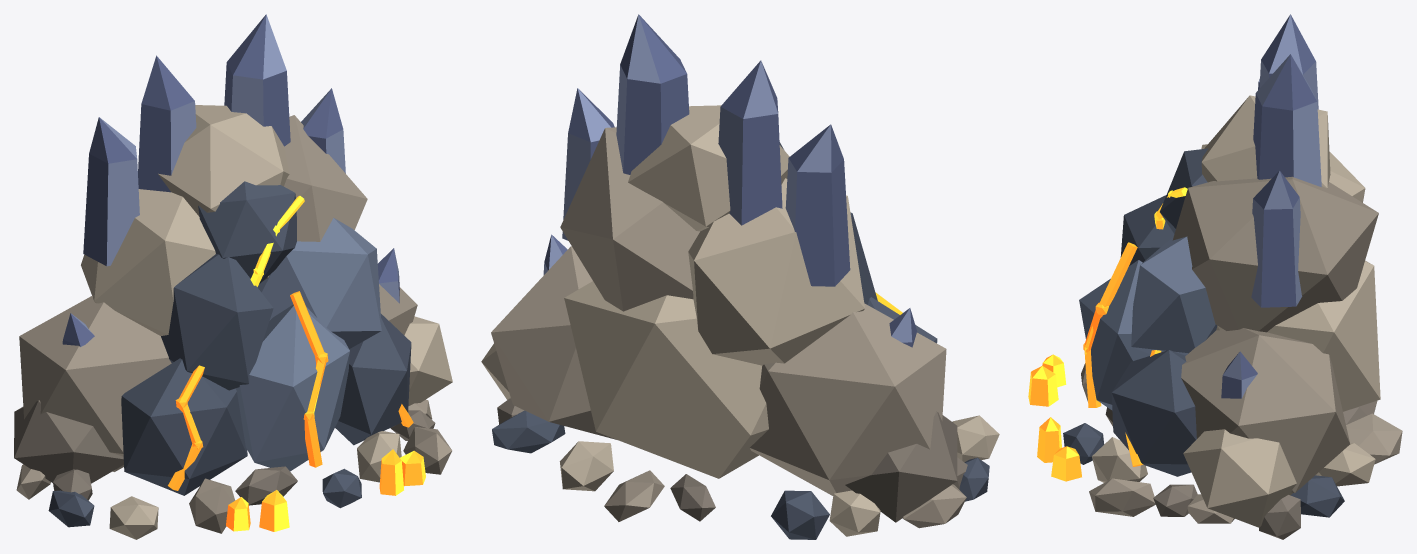
Rendered from amber_ore_pile.glb.
3 views of the same model, side by side, from view 1: azimuth 30°, elevation 25°; view 2: azimuth 150°, elevation 25°; view 3: azimuth 270°, elevation 25° (orthographic). The views are drawn at different scales.
Visible parts, largest first — view 1: Host_Boulder_1, Ore_Node_2, Ore_Node_1, Host_Boulder_4, Ore_Node_4, Ore_Node_5, Host_Boulder_8, Ore_Node_3, Ore_Node_6, Crystal_Back_Left, Host_Boulder_5, Host_Boulder_6 (+23 smaller); view 2: Host_Boulder_2, Host_Boulder_1, Host_Boulder_4, Host_Boulder_5, Host_Boulder_3, Host_Boulder_8, Crystal_Back_Left, Crystal_Tall_Left, Crystal_Tall_Right, Host_Boulder_6, Crystal_Back_Right, Rubble_4 (+11 smaller); view 3: Host_Boulder_5, Host_Boulder_3, Ore_Node_3, Host_Boulder_7, Host_Boulder_2, Ore_Node_5, Crystal_Tall_Right, Crystal_Back_Right, Ore_Node_2, Host_Boulder_8, Crystal_Tall_Left, Ore_Node_4 (+17 smaller).
Boxes of the visible parts, box(x1,y1,x2,y2) form: Host_Boulder_1: box(19, 295, 171, 471); Ore_Node_2: box(236, 304, 349, 471); Ore_Node_1: box(121, 358, 247, 495); Host_Boulder_4: box(81, 189, 215, 335); Ore_Node_4: box(161, 254, 273, 390); Ore_Node_5: box(257, 218, 381, 348); Host_Boulder_8: box(158, 105, 289, 216); Ore_Node_3: box(335, 314, 411, 445); Ore_Node_6: box(198, 181, 296, 283); Crystal_Back_Left: box(83, 117, 139, 266); Host_Boulder_5: box(262, 115, 367, 281); Host_Boulder_6: box(14, 400, 123, 483); Host_Boulder_2: box(564, 281, 768, 478); Host_Boulder_1: box(750, 303, 946, 495); Host_Boulder_4: box(688, 178, 864, 365); Host_Boulder_5: box(560, 127, 699, 311); Host_Boulder_3: box(491, 246, 616, 439); Host_Boulder_8: box(628, 105, 789, 231); Crystal_Back_Left: box(785, 124, 850, 286); Crystal_Tall_Left: box(718, 60, 782, 225); Crystal_Tall_Right: box(616, 14, 689, 174); Host_Boulder_6: box(845, 411, 957, 522); Crystal_Back_Right: box(562, 88, 614, 240); Rubble_4: box(559, 441, 613, 491); Host_Boulder_5: box(1172, 176, 1378, 332); Host_Boulder_3: box(1181, 328, 1349, 493); Ore_Node_3: box(1111, 350, 1196, 476); Host_Boulder_7: box(1183, 429, 1296, 527); Host_Boulder_2: box(1216, 260, 1380, 411); Ore_Node_5: box(1131, 236, 1217, 355); Crystal_Tall_Right: box(1253, 54, 1321, 186); Crystal_Back_Right: box(1251, 170, 1302, 307); Ore_Node_2: box(1079, 260, 1185, 410); Host_Boulder_8: box(1201, 95, 1330, 188); Crystal_Tall_Left: box(1259, 14, 1318, 109); Ore_Node_4: box(1120, 195, 1174, 265).
Bounding box in the file's own units: 3.65 × 3.48 × 2.74.
